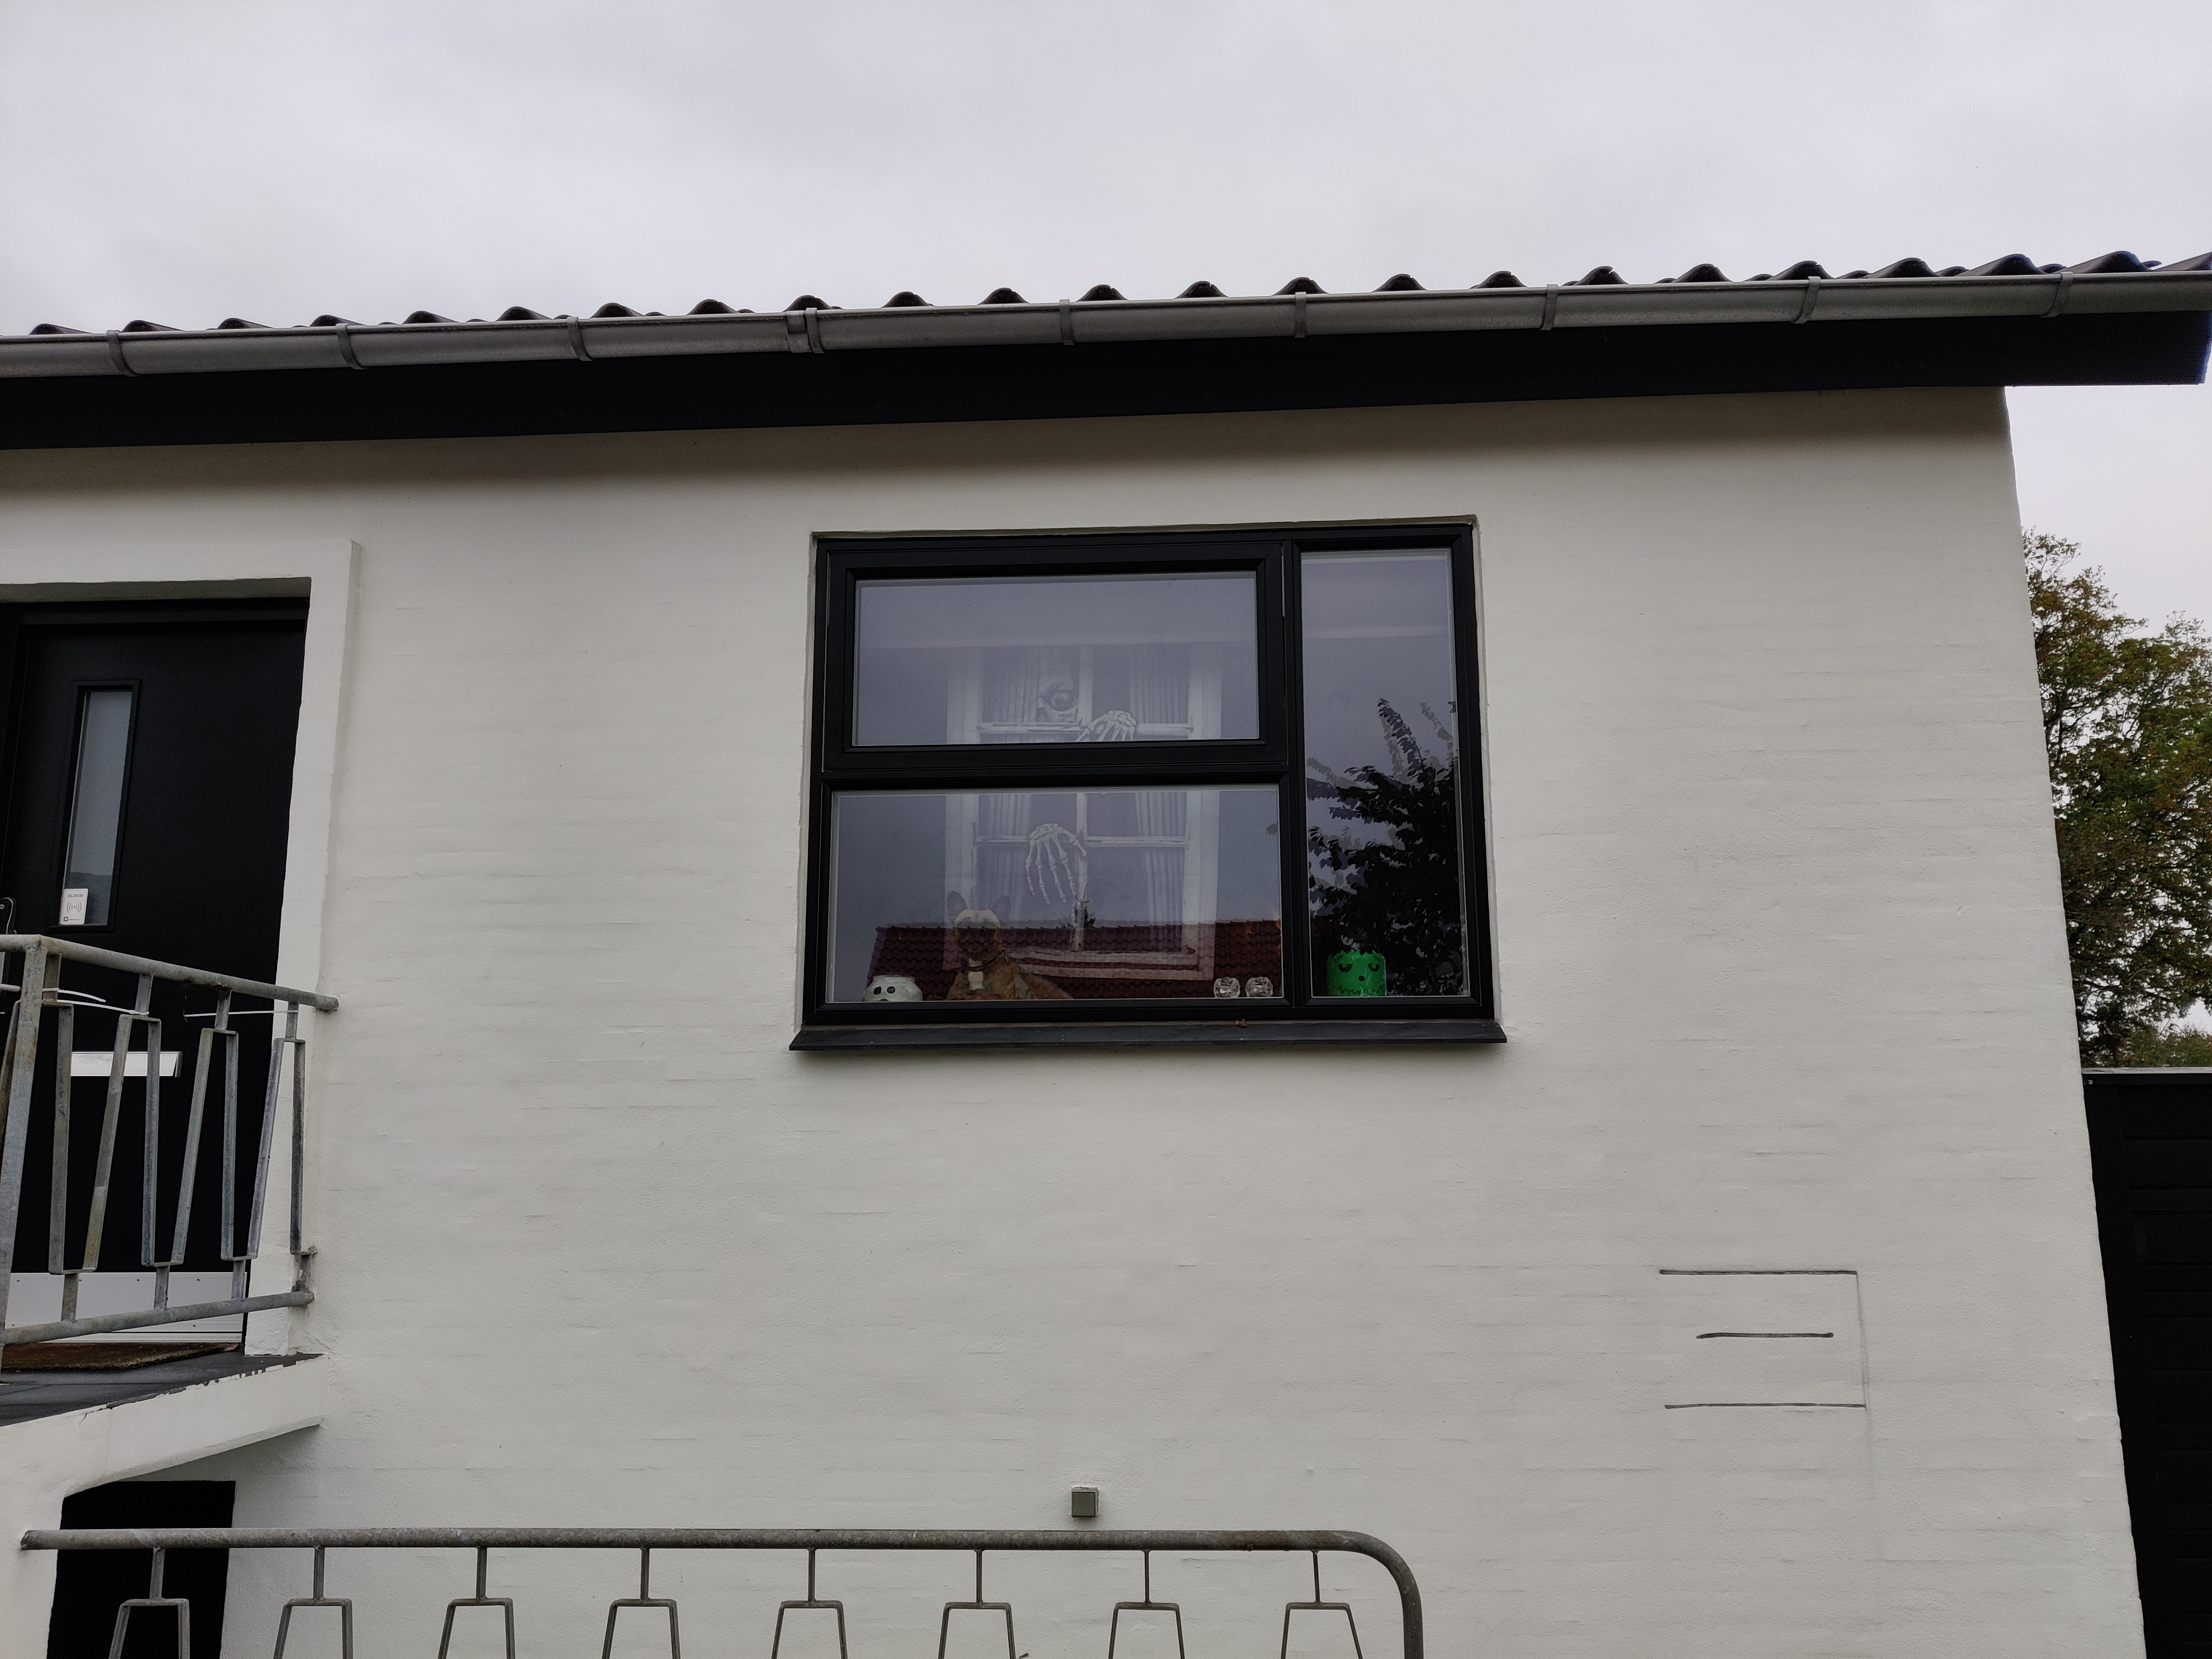Dog: (937, 887, 1075, 1002)
